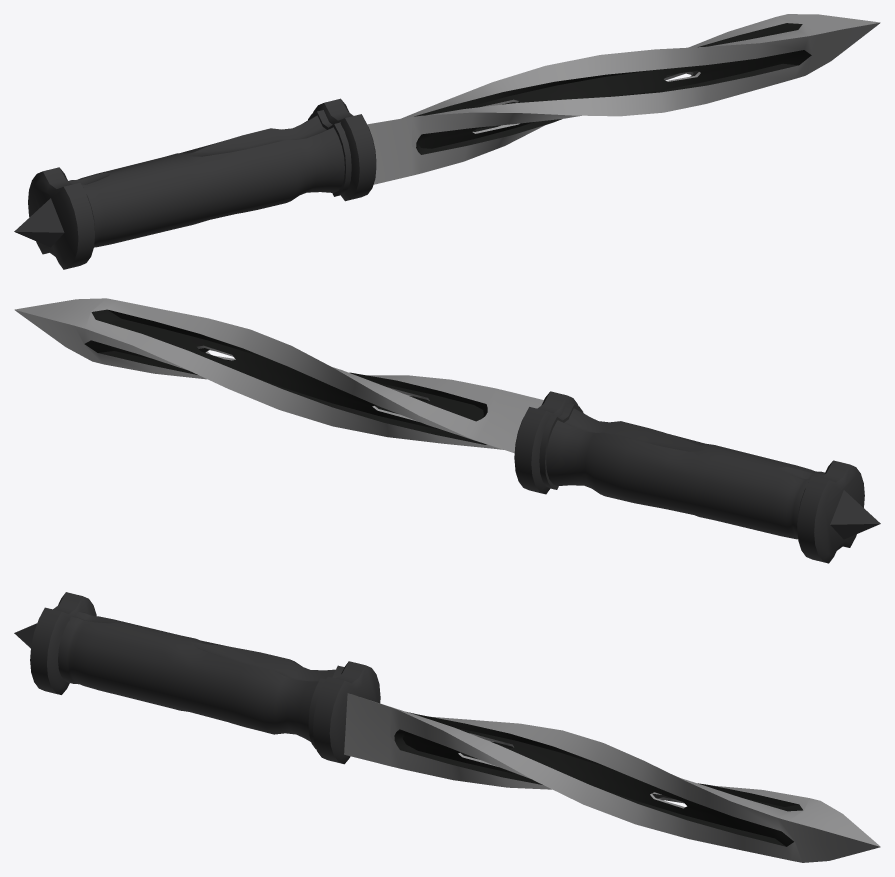
Rendered from M48_Cyclone_Mesh.fbx.
3 views of the same model, one above another, from view 1: azimuth 30°, elevation 25°; view 2: azimuth 150°, elevation 25°; view 3: azimuth 330°, elevation 25° (orthographic).
Visible parts, largest first — view 1: M48_Cyclone; view 2: M48_Cyclone; view 3: M48_Cyclone.
Part boxes in pixels (left/top/right/bottom): M48_Cyclone: left=14, top=14, right=880, bottom=269; M48_Cyclone: left=14, top=298, right=880, bottom=563; M48_Cyclone: left=14, top=592, right=880, bottom=862.
Size of the model in its own units: 0.4748 by 0.0437 by 0.0481.
